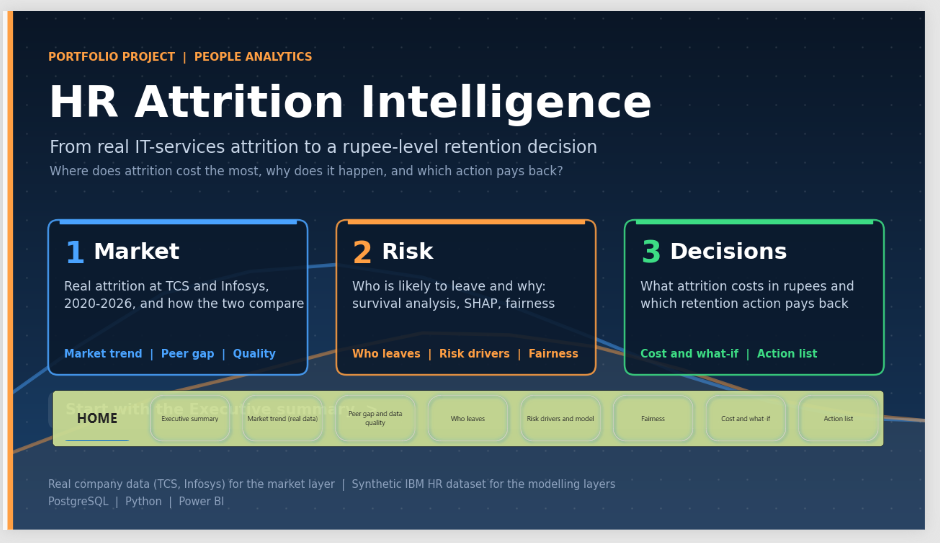

The dashboard page shown, as its layout file describes it:
{"tool":"powerbi","page":{"name":"HOME","canvas":[1920,1080],"ordinal":0},"visuals":[{"type":"image","box":[9.5,0,1911.1,1080.8],"z":0},{"type":"pageNavigator","box":[102.6,792.1,1732.2,116.9],"z":501}]}

Visuals, with their boxes in screenshot pixels (x1, y1, x2, y2), scaled from the page's 1920x1080 canvas onto the 940x543 screenshot:
image: bbox=[5, 0, 939, 542]
pageNavigator: bbox=[50, 398, 898, 457]
